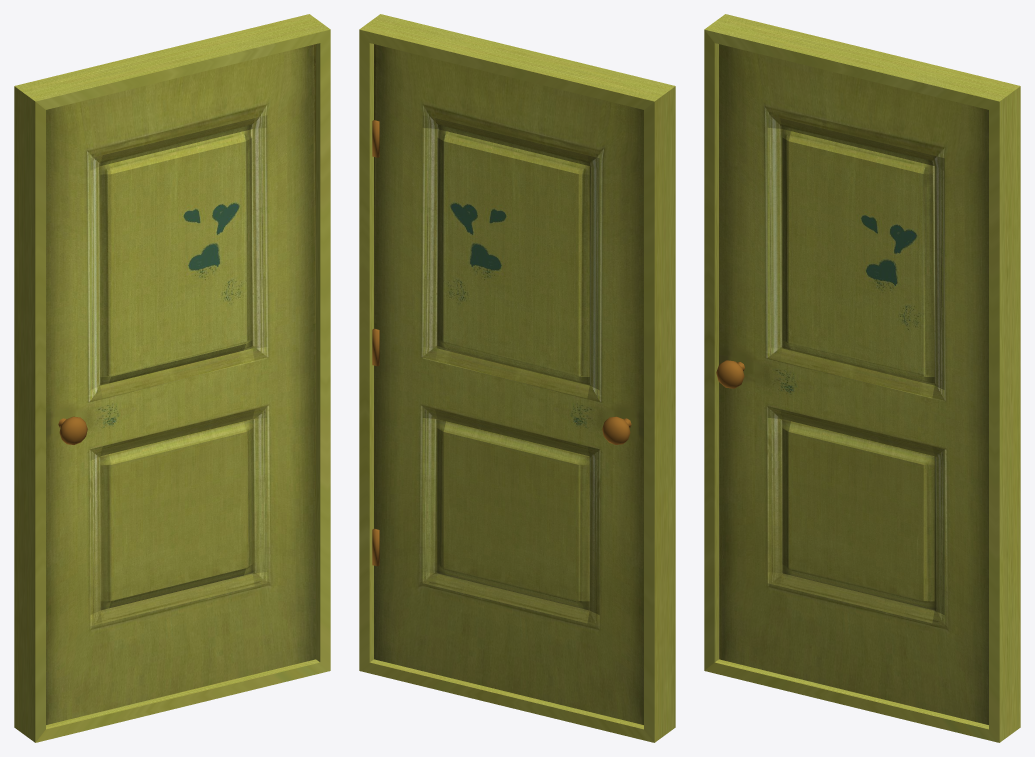
The model's file is doorYellow.glb.
3 renders of one model, left to right at view 1: azimuth 30°, elevation 25°; view 2: azimuth 150°, elevation 25°; view 3: azimuth 330°, elevation 25°, orthographic.
Parts seen in each view (by area): view 1: door, frame, knob; view 2: door, frame, hinge2, knob; view 3: door, frame, knob.
Boxes of the visible parts, <box> form: door: <box>46,44,315,724</box>; frame: <box>14,14,330,742</box>; knob: <box>58,416,87,444</box>; door: <box>374,44,643,724</box>; frame: <box>359,14,675,742</box>; hinge2: <box>372,120,379,566</box>; knob: <box>602,416,631,444</box>; door: <box>719,44,988,724</box>; frame: <box>704,14,1020,742</box>; knob: <box>716,360,744,388</box>.
Bounding box in the file's own units: 1.91 × 3.97 × 0.4957.
Materials: 3 (2 with a texture image).
